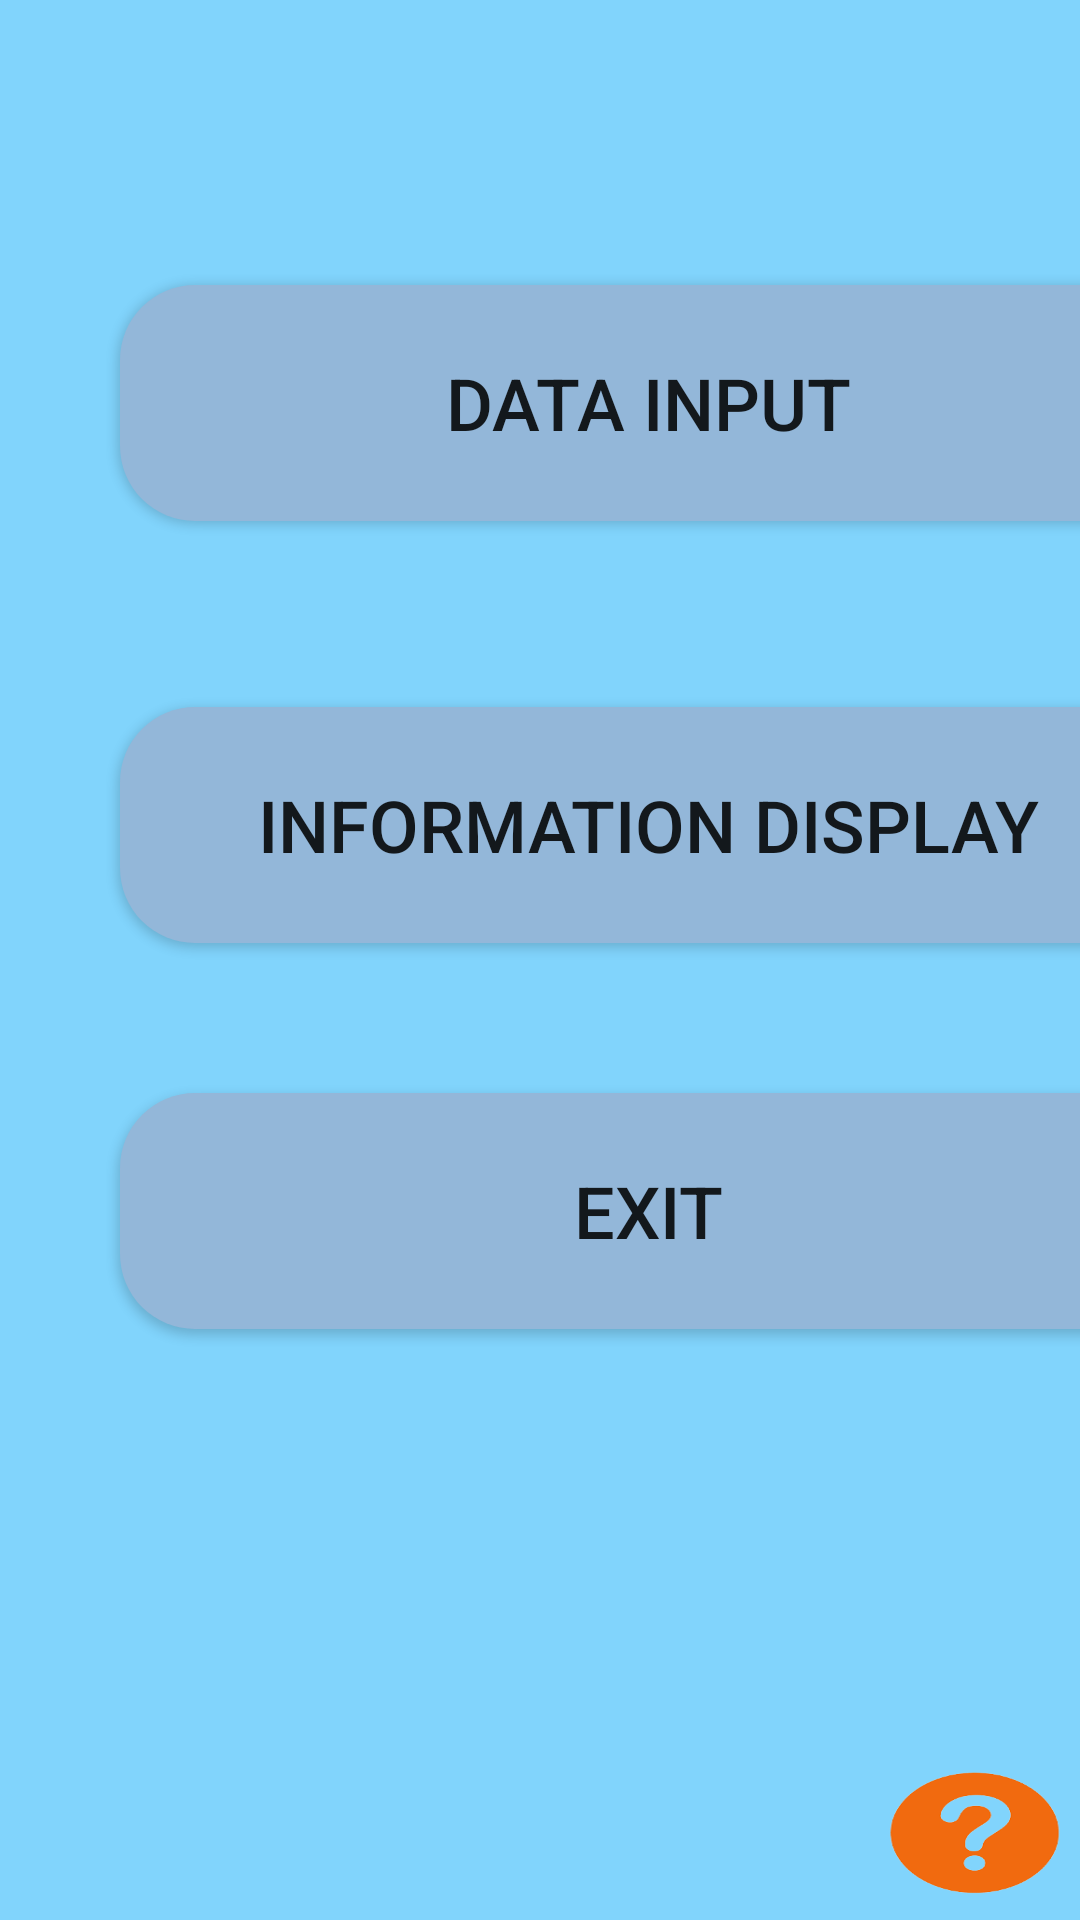

Where icons sit on this 1080×1920 app screen, as box=[x1, y1, x2, y2]:
questionmark: box=[890, 1772, 1059, 1893]
